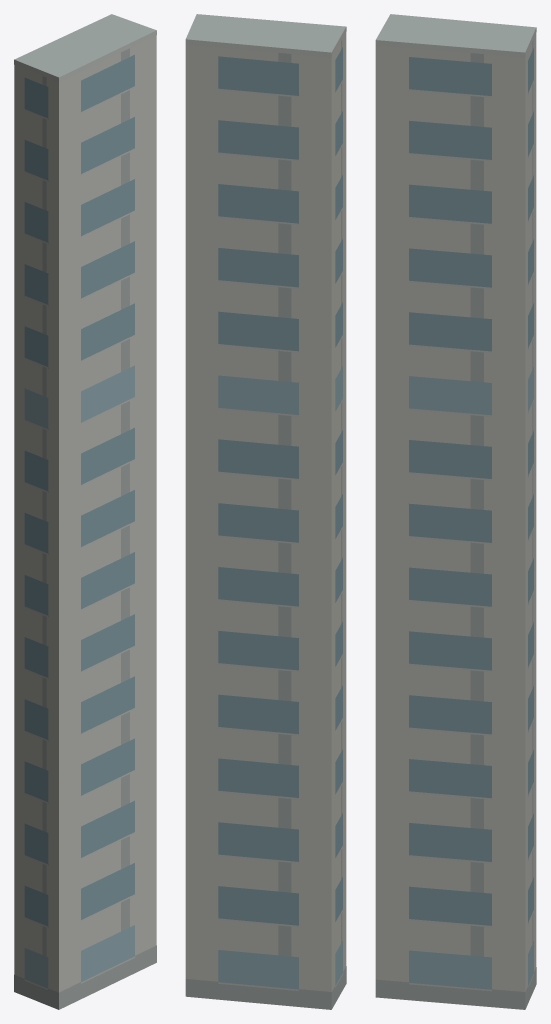
Rendered from survey-upis-32640575.glb.
3 views of the same model, side by side, from view 1: azimuth 30°, elevation 25°; view 2: azimuth 150°, elevation 25°; view 3: azimuth 330°, elevation 25° (orthographic). The views are drawn at different scales.
Visible parts, largest first — view 1: survey-upis-32640575.tmp; view 2: survey-upis-32640575.tmp; view 3: survey-upis-32640575.tmp.
Boxes of the visible parts, bbox=[...] form: survey-upis-32640575.tmp: bbox=[14, 14, 156, 1009]; survey-upis-32640575.tmp: bbox=[185, 14, 346, 1009]; survey-upis-32640575.tmp: bbox=[375, 14, 536, 1009].
Bounding box in the file's own units: 7.04 × 45.75 × 4.62.
